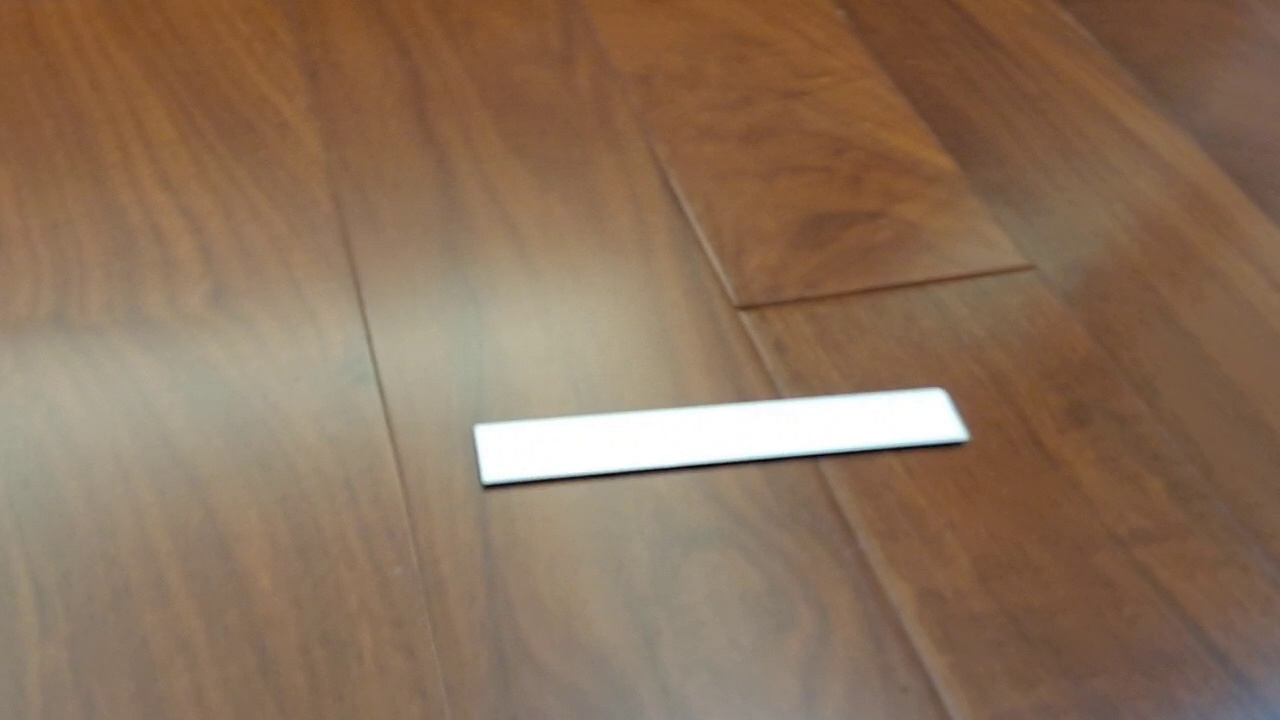ruler: (472, 386, 972, 492)
